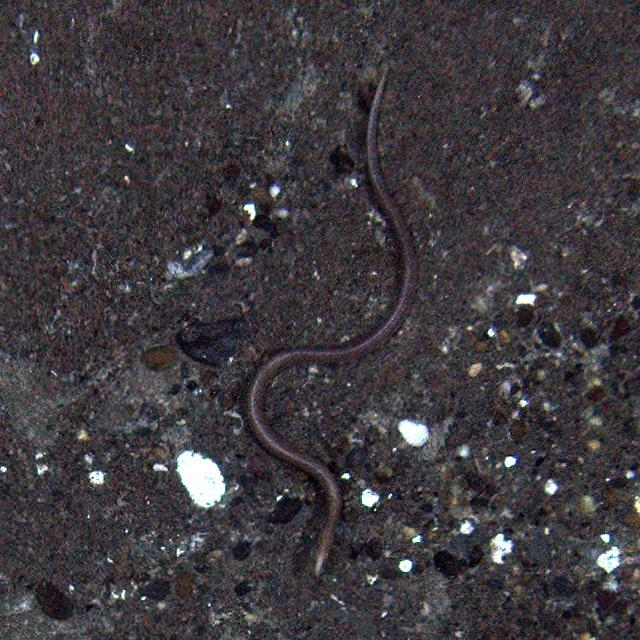eel: (247, 72, 422, 575)
